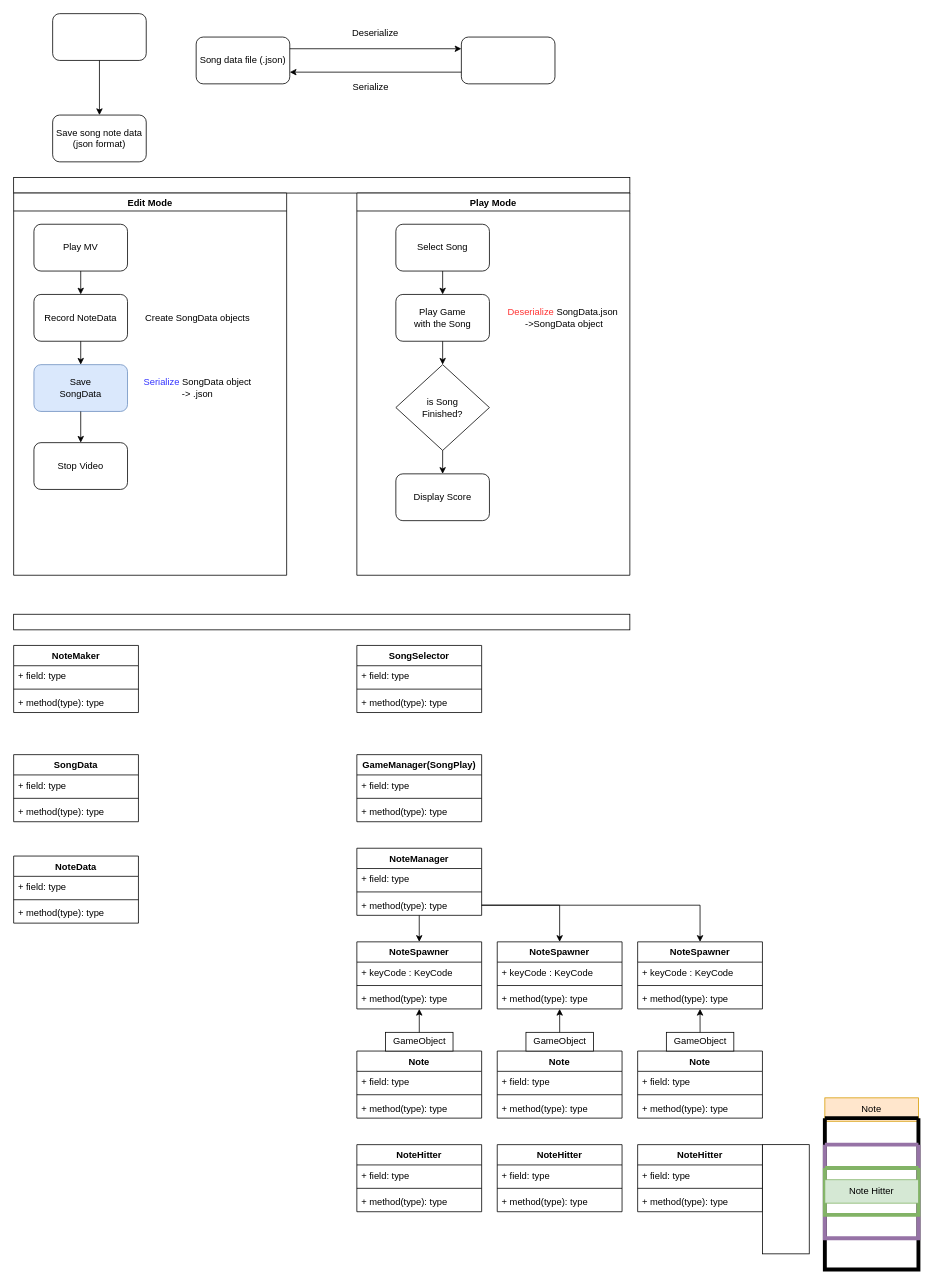
This 934x1285 diagram has some shape labels left out. The centre of each missing label's shape, as x and y in pixels:
Create song note data: the point at 99,36
enum HitType Bad, Miss, Good, Great, Cool: the point at 785,1199
Song data object: the point at 508,60
